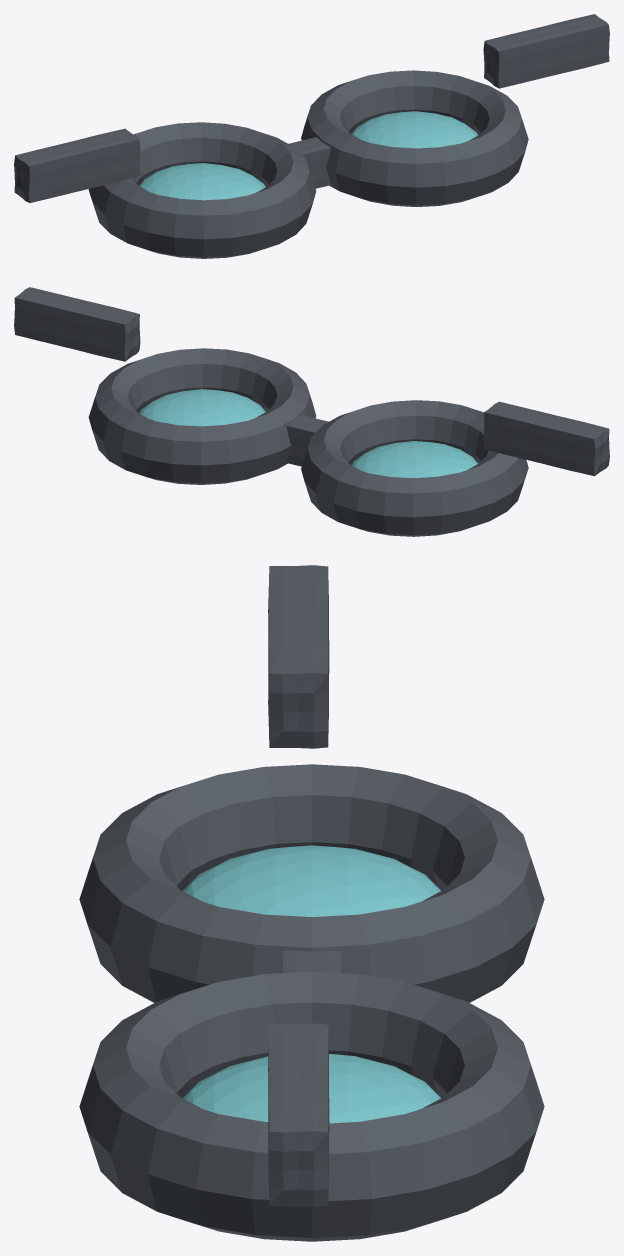
File: gafas-sol.glb
3 renders of one model, top to bottom at view 1: azimuth 30°, elevation 25°; view 2: azimuth 150°, elevation 25°; view 3: azimuth 270°, elevation 25°, orthographic. The views are drawn at different scales.
Parts seen in each view (by area): view 1: gafas-sol_02, gafas-sol_00, gafas-sol_05, gafas-sol_06, gafas-sol_03, gafas-sol_01, gafas-sol_04; view 2: gafas-sol_02, gafas-sol_00, gafas-sol_05, gafas-sol_06, gafas-sol_03, gafas-sol_01, gafas-sol_04; view 3: gafas-sol_02, gafas-sol_00, gafas-sol_01, gafas-sol_06, gafas-sol_05, gafas-sol_03, gafas-sol_04.
Part boxes in pixels (x1,y1,x2,y2): gafas-sol_02: (301,70,528,206); gafas-sol_00: (88,122,316,258); gafas-sol_05: (14,128,140,202); gafas-sol_06: (483,14,609,88); gafas-sol_03: (351,111,477,148); gafas-sol_01: (139,163,265,200); gafas-sol_04: (288,137,330,188); gafas-sol_02: (88,348,316,484); gafas-sol_00: (301,400,528,536); gafas-sol_05: (483,401,609,476); gafas-sol_06: (14,287,140,361); gafas-sol_03: (139,389,265,426); gafas-sol_01: (352,441,478,478); gafas-sol_04: (286,415,328,466); gafas-sol_02: (79,971,544,1241); gafas-sol_00: (79,764,544,1002); gafas-sol_01: (183,845,440,916); gafas-sol_06: (268,1023,329,1206); gafas-sol_05: (268,565,329,748); gafas-sol_03: (183,1054,440,1123); gafas-sol_04: (281,950,342,973).
Bounding box in the file's own units: 0.7314 × 0.1481 × 0.2523.
